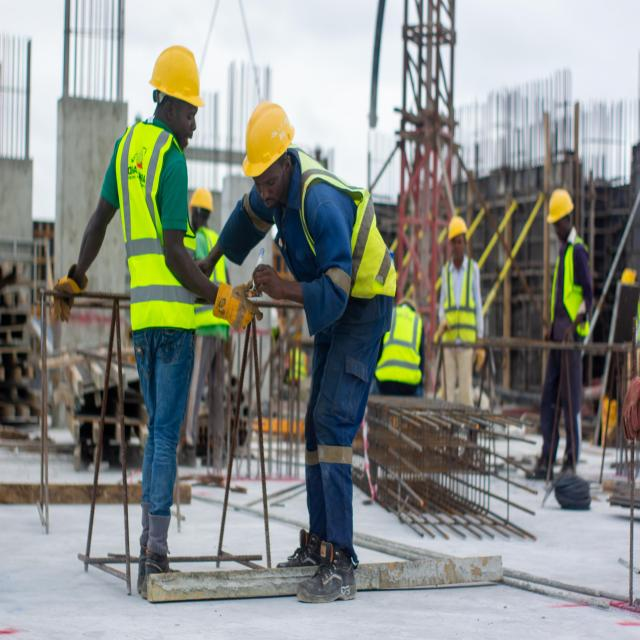Reflective-Jacket: (114, 122, 195, 330), (296, 155, 397, 306), (374, 304, 426, 390), (549, 237, 592, 334), (440, 255, 480, 347)
Safety-Helmet: (240, 97, 296, 178), (148, 42, 206, 108), (545, 183, 576, 226), (440, 210, 469, 247), (190, 185, 215, 212)
